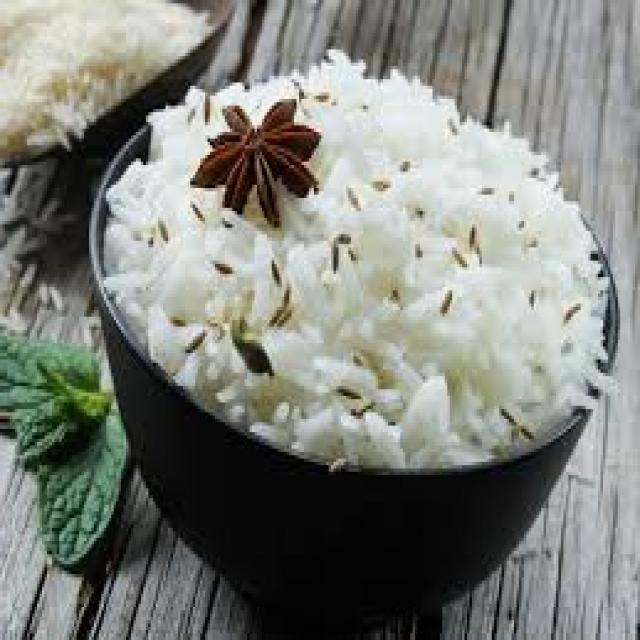White Rice: (128, 84, 612, 600)
